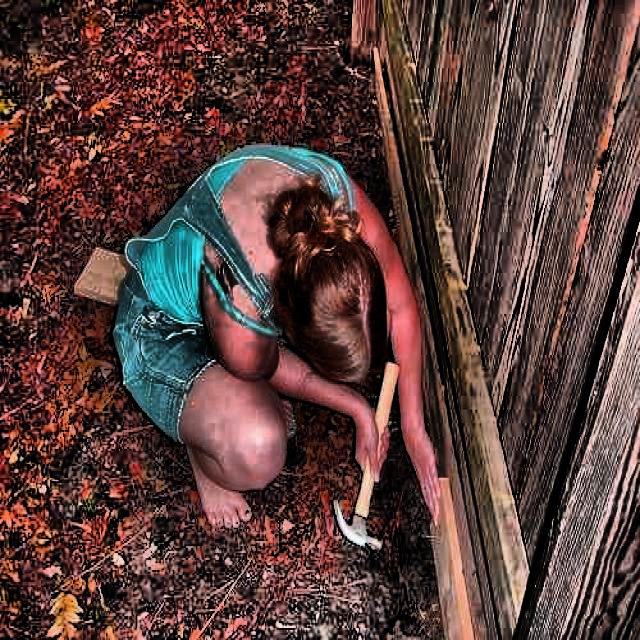hammer: (333, 361, 399, 548)
